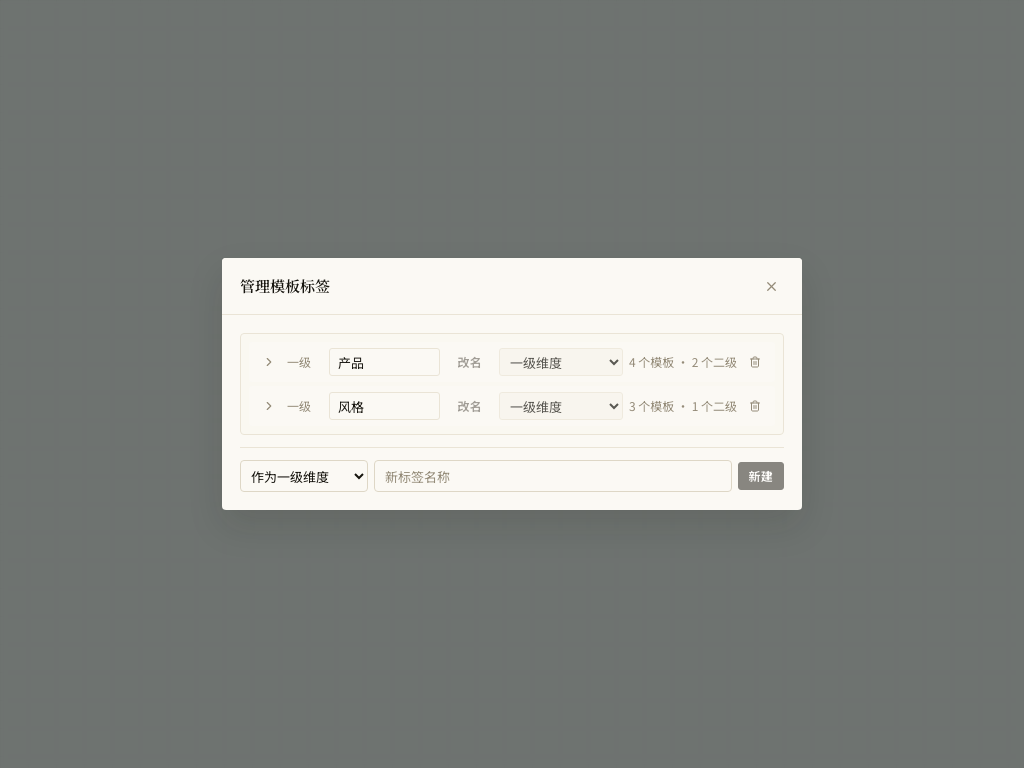
Test: TemplateTagManager · 模板词表结构 › 默认收起二级；展开后才显示一级下面的取值
Later steps or results of the test are not shown.
Click the button named "展开 产品" at [269, 362], box top-left (257, 350), bottom-right (281, 374)
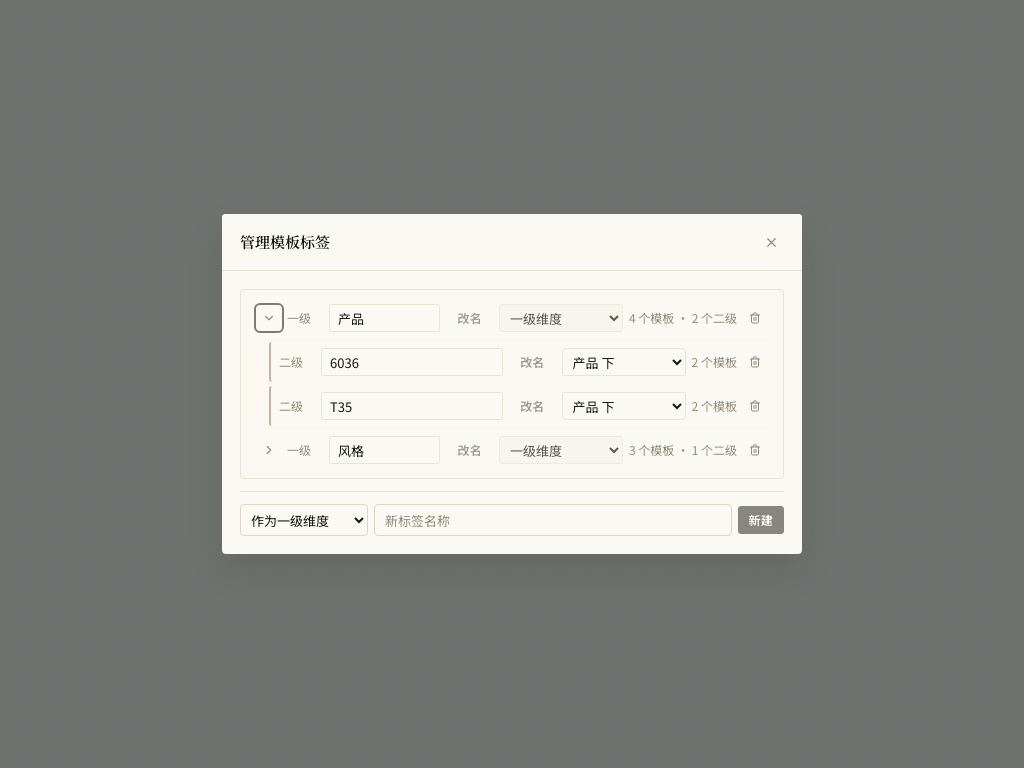
Check: the field named "6036 的名称" is shown, box top-left (321, 348), bottom-right (503, 376)
